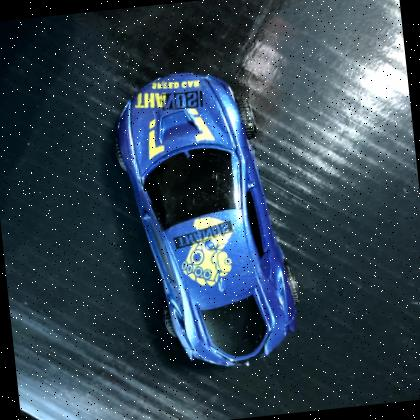Car: (104, 56, 312, 383)
